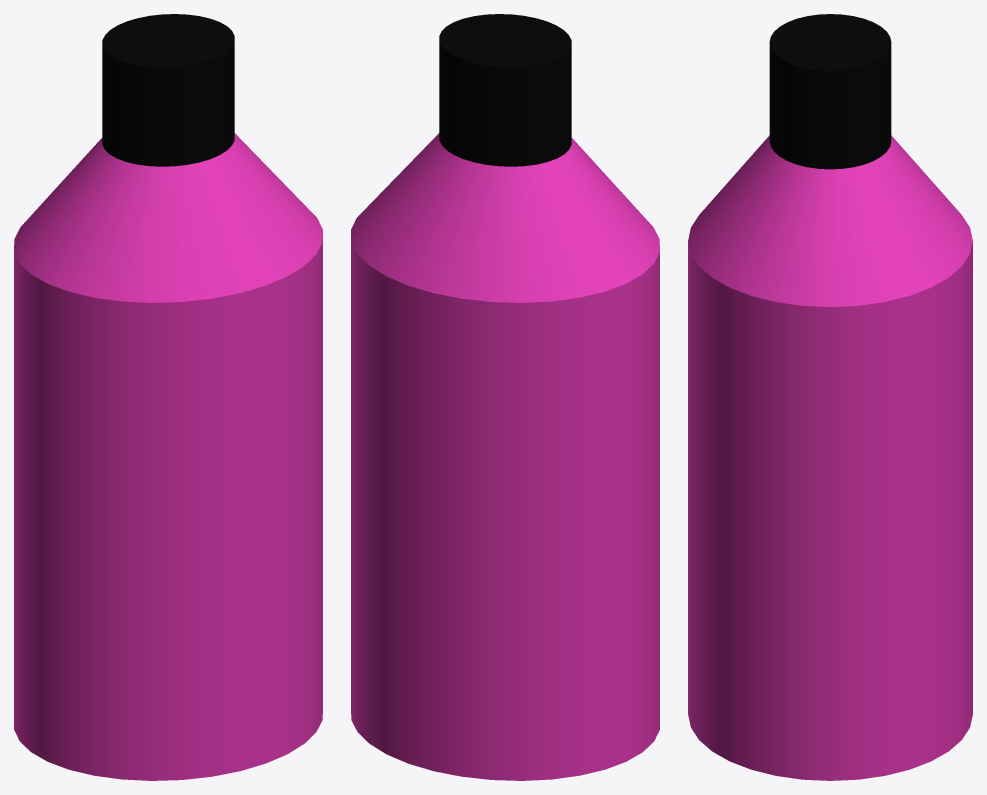
Rendered from ShampooBottle.fbx.
3 renders of one model, left to right at view 1: azimuth 30°, elevation 25°; view 2: azimuth 150°, elevation 25°; view 3: azimuth 270°, elevation 25°, orthographic.
Visible parts, largest first — view 1: Cylinder.036; view 2: Cylinder.036; view 3: Cylinder.036.
Boxes of the visible parts, x1=… form: Cylinder.036: x1=14, y1=14, x2=322, y2=780; Cylinder.036: x1=351, y1=14, x2=659, y2=780; Cylinder.036: x1=688, y1=14, x2=972, y2=780.
Bounding box in the file's own units: 318 × 748 × 287.
